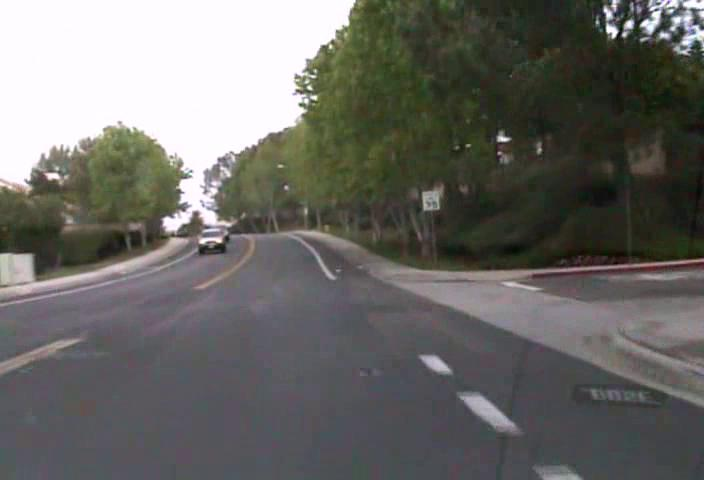speedLimit35: (421, 188, 441, 212)
